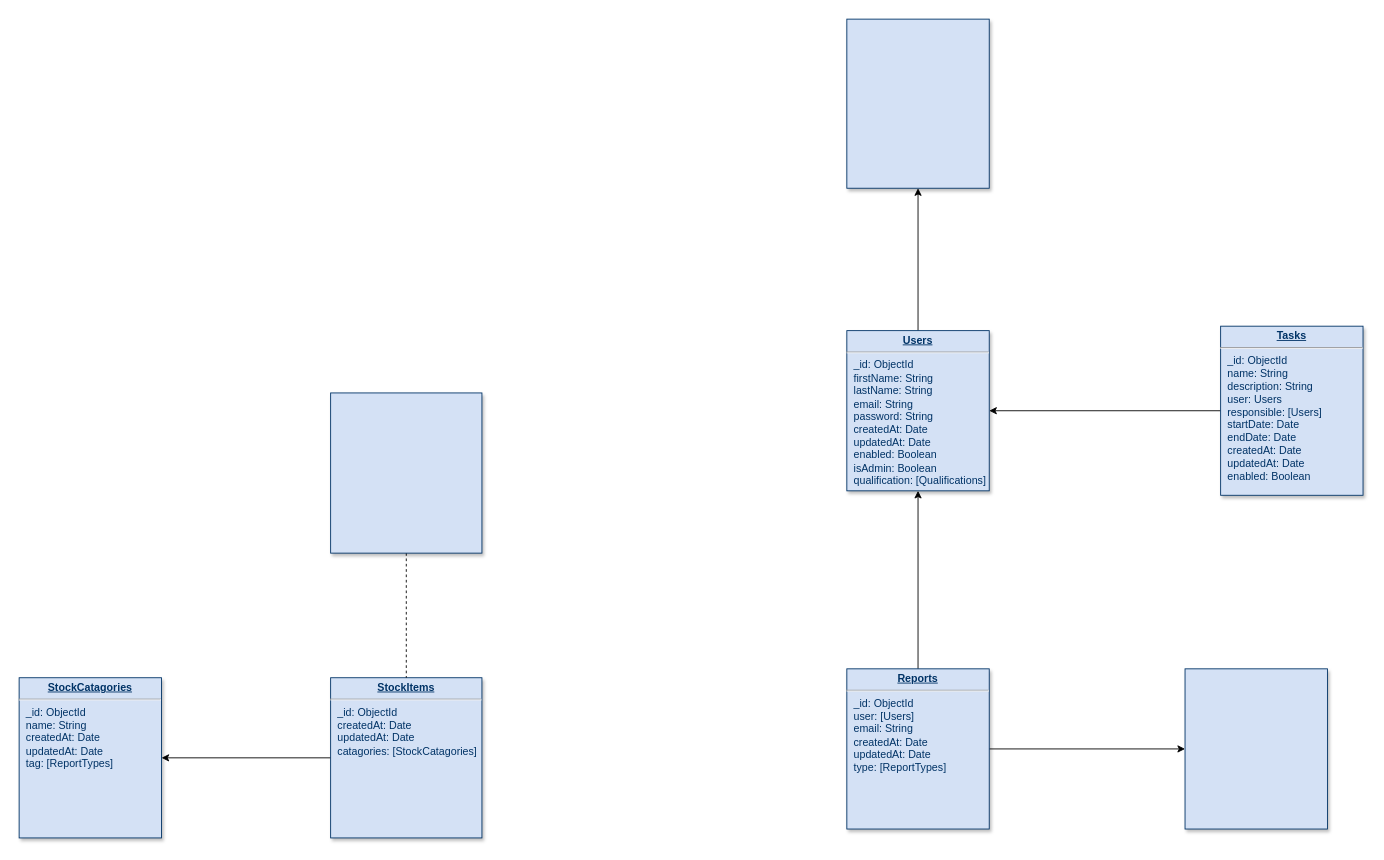
The diagram is 1384 pixels wide and 860 high, and some of its shapes have lost their labels. Each missing label, with the centre of its shape:
"Qualifications _id: ObjectId title: String description: String enabled: Boolean" goes at (918,104).
"ReportTypes _id: ObjectId name: String description: String" goes at (1257,749).
"Stocks _id: ObjectId name: String createdAt: Date updatedAt: Date tags: [String]" goes at (406,473).
